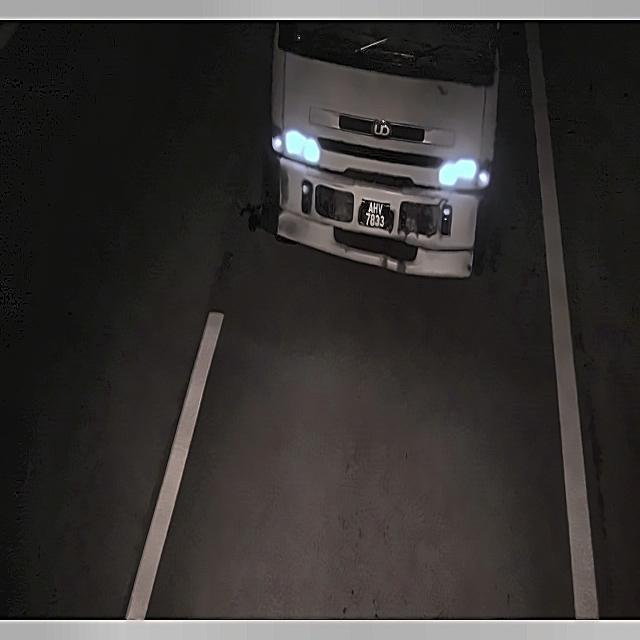car: (354, 191, 398, 238)
